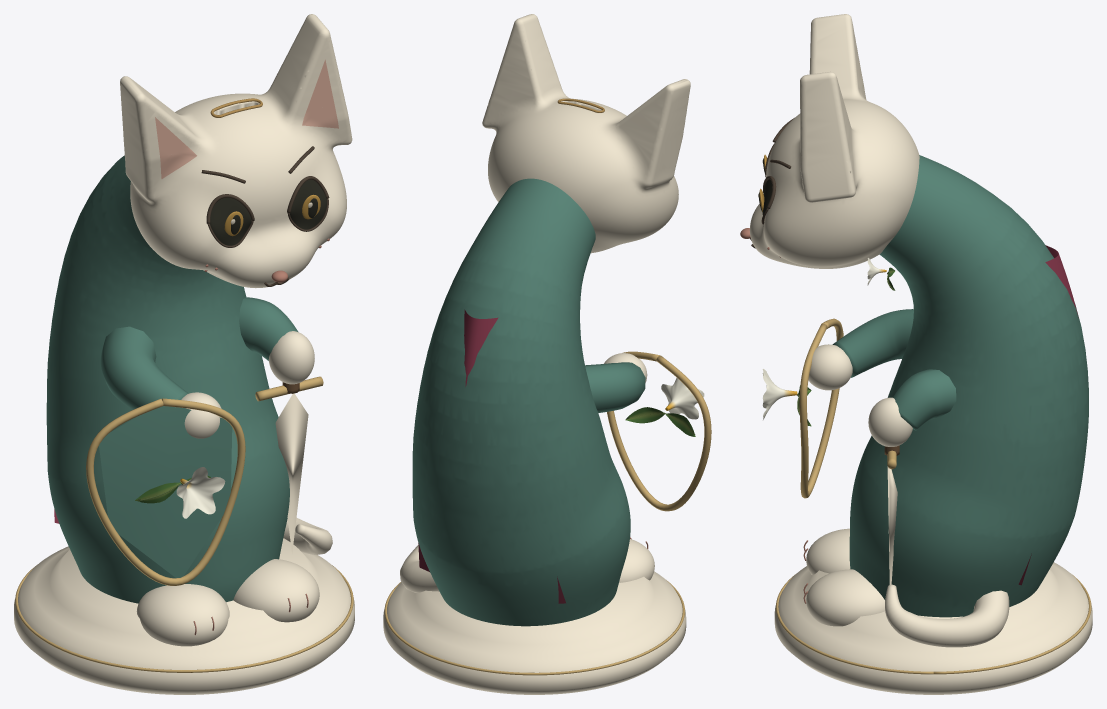
File: knight.v1.glb
The picture shows the model from 3 angles, left to right: view 1: azimuth 30°, elevation 25°; view 2: azimuth 150°, elevation 25°; view 3: azimuth 270°, elevation 25°; orthographic projection. The views are drawn at different scales.
Parts seen in each view (by area): view 1: Core | continuous arched knight body and long curved neck, Core | protect sculpted chess skull, Core | flared feline chess foot, Wardrobe | faithful leaf shield, Core | tiny kitten toes at the foot of the armour, Wardrobe | connected shield foreleg, Wardrobe | shield binding, Wardrobe | rounded ceramic paw, Face | warm rose ear interiors, Wardrobe | point-down ceremonial leaf blade, Wardrobe | compact arm in glazed clay, Face | protect shaped eyes (+6 smaller); view 2: Core | continuous arched knight body and long curved neck, Core | protect sculpted chess skull, Core | flared feline chess foot, Wardrobe | shield binding, Wardrobe | connected shield foreleg, Wardrobe | cape following the knight back curve, Wardrobe | quiet gilt foot bead, Core | tiny kitten toes at the foot of the armour, Core | low curled ceramic tail, Royal favour | white mandevilla trumpet, Royal favour | living leaves; view 3: Core | continuous arched knight body and long curved neck, Core | protect sculpted chess skull, Core | flared feline chess foot, Core | tiny kitten toes at the foot of the armour, Core | low curled ceramic tail, Wardrobe | rounded ceramic paw, Wardrobe | connected shield foreleg, Wardrobe | compact arm in glazed clay, Wardrobe | shield binding, Wardrobe | quiet gilt foot bead, Royal favour | white mandevilla trumpet, Wardrobe | point-down ceremonial leaf blade (+1 smaller).
Boxes of the visible parts, x1,y1,x2,y2 form: Core | continuous arched knight body and long curved neck: (46,155,289,603); Core | protect sculpted chess skull: (120,14,352,288); Core | flared feline chess foot: (14,538,354,694); Wardrobe | faithful leaf shield: (99,406,232,578); Core | tiny kitten toes at the foot of the armour: (136,559,319,646); Wardrobe | connected shield foreleg: (100,326,188,409); Wardrobe | shield binding: (86,398,245,585); Wardrobe | rounded ceramic paw: (181,331,314,438); Face | warm rose ear interiors: (155,59,338,178); Wardrobe | point-down ceremonial leaf blade: (275,393,308,553); Wardrobe | compact arm in glazed clay: (239,297,298,360); Face | protect shaped eyes: (210,179,326,245); Core | continuous arched knight body and long curved neck: (412,178,630,626); Core | protect sculpted chess skull: (482,14,690,253); Core | flared feline chess foot: (383,571,686,694); Wardrobe | shield binding: (607,351,711,511); Wardrobe | connected shield foreleg: (585,362,645,412); Wardrobe | cape following the knight back curve: (418,309,565,603); Wardrobe | quiet gilt foot bead: (384,580,684,675); Core | tiny kitten toes at the foot of the armour: (619,539,654,582); Core | low curled ceramic tail: (400,545,439,592); Royal favour | white mandevilla trumpet: (661,378,704,419); Royal favour | living leaves: (625,407,695,436); Core | continuous arched knight body and long curved neck: (849,155,1088,617); Core | protect sculpted chess skull: (749,14,919,268); Core | flared feline chess foot: (774,562,1092,694); Core | tiny kitten toes at the foot of the armour: (806,528,884,626); Core | low curled ceramic tail: (885,584,1009,647); Wardrobe | rounded ceramic paw: (808,344,912,446); Wardrobe | connected shield foreleg: (832,309,913,377); Wardrobe | compact arm in glazed clay: (893,369,956,430); Wardrobe | shield binding: (799,318,843,498); Wardrobe | quiet gilt foot bead: (776,574,1091,674); Royal favour | white mandevilla trumpet: (762,258,886,419); Wardrobe | point-down ceremonial leaf blade: (887,466,897,584).
Bounding box in the file's own units: 0.4871 × 1 × 0.539.
